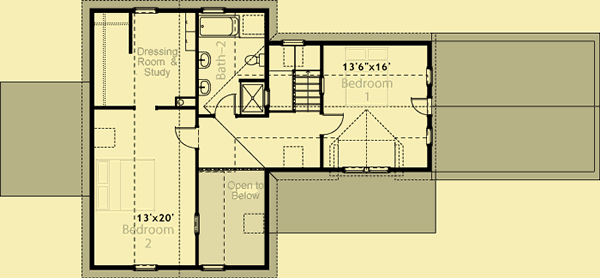there is a bathroom with dual sinks with bathtub and toilet and shower: (198, 10, 271, 120)
this bedroom has a double bed with bedside stands: (90, 105, 198, 268), (321, 42, 435, 171)
